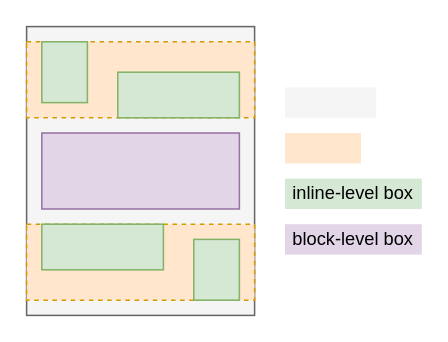
This 448x342 diagram has some shape labels left out. The centre of each missing label's shape, as x and y in pixels:
block box: [329,102]
line-box: [322,147]
